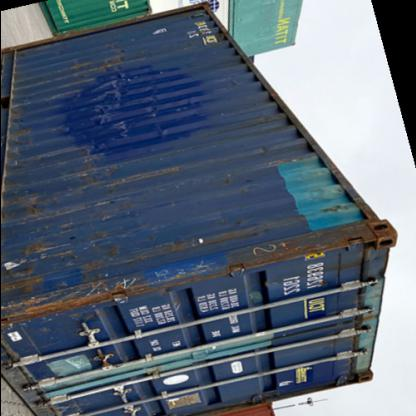Damage: (12, 245, 159, 324), (68, 161, 174, 193), (88, 68, 132, 140), (232, 231, 312, 270), (258, 141, 310, 170), (146, 82, 172, 140), (102, 30, 140, 63), (23, 188, 53, 223), (314, 194, 360, 216)
